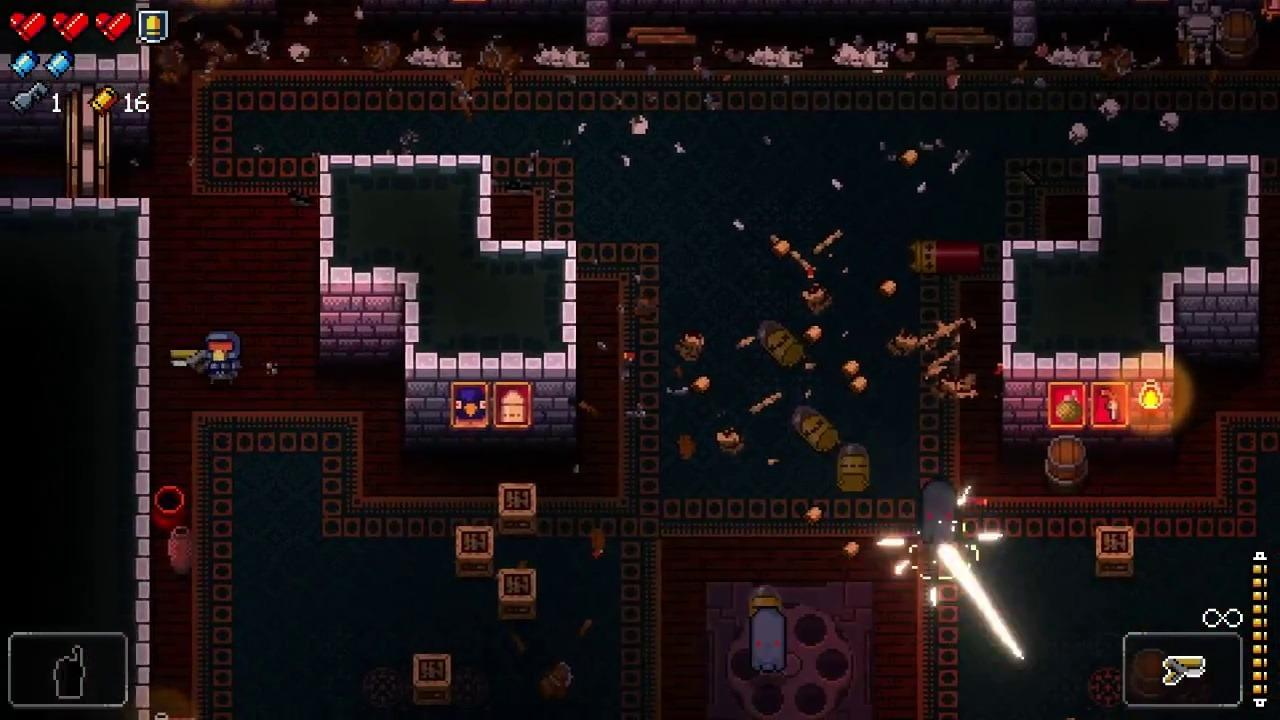dead_bullet_kin: (791, 405, 841, 453), (757, 320, 806, 368), (838, 442, 871, 494)
dead_red_shotgun_kin: (909, 239, 983, 276)
hollowpoint: (748, 606, 788, 673), (921, 477, 957, 544)
locked_door: (66, 84, 110, 199)
player: (203, 330, 242, 387)
teleporter: (706, 582, 875, 720)
